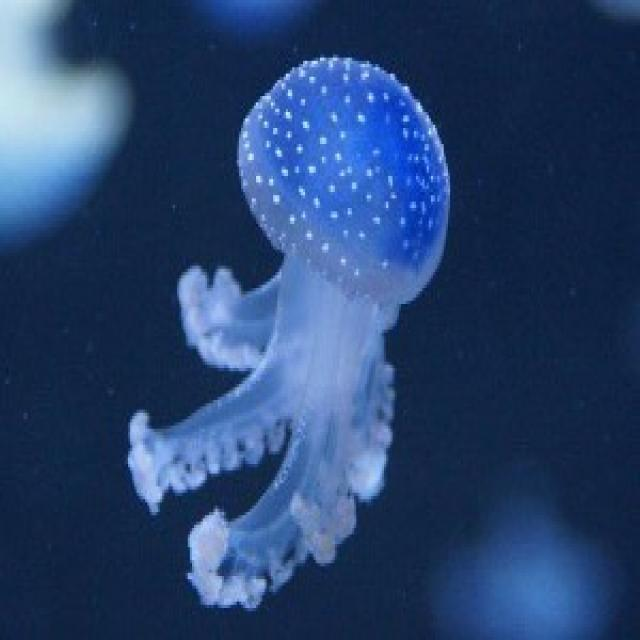Jellyfish: (99, 32, 478, 640)
